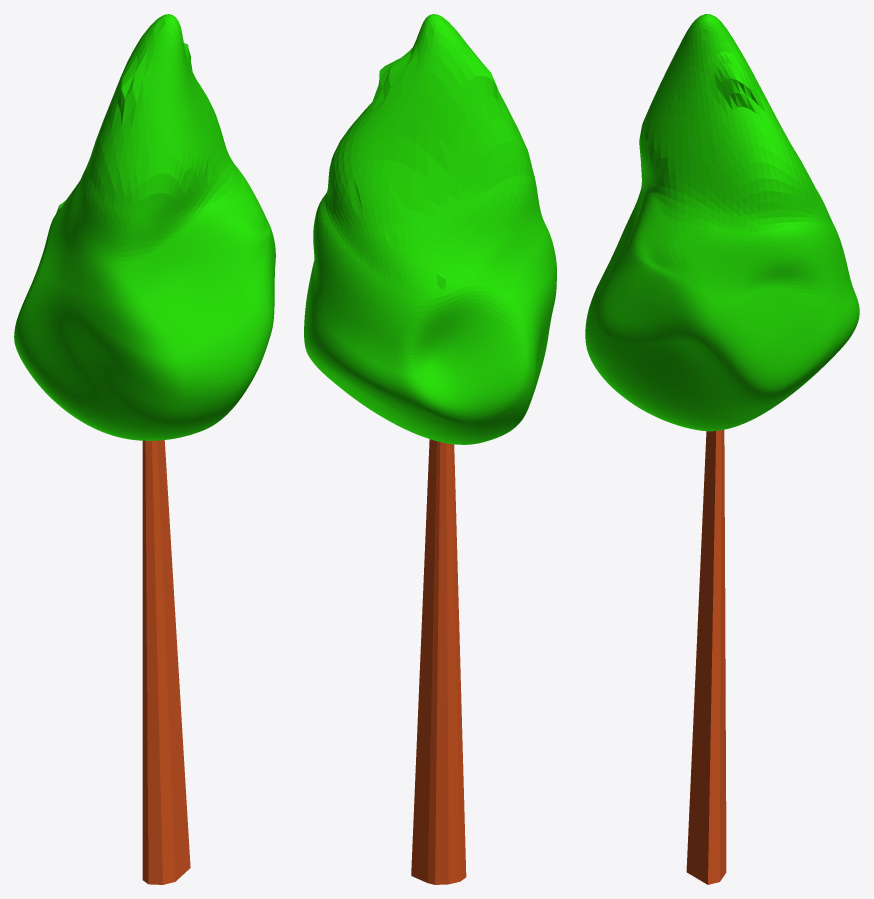
File: tree22.fbx
The picture shows the model from 3 angles, left to right: view 1: azimuth 30°, elevation 25°; view 2: azimuth 150°, elevation 25°; view 3: azimuth 270°, elevation 25°; orthographic projection.
Visible parts, largest first — view 1: Cube; view 2: Cube; view 3: Cube.
Part boxes in pixels (<box>): Cube: <box>14,14,275,884</box>; Cube: <box>304,14,556,884</box>; Cube: <box>585,14,859,884</box>.
Size of the model in its own units: 806 by 2879 by 833.
